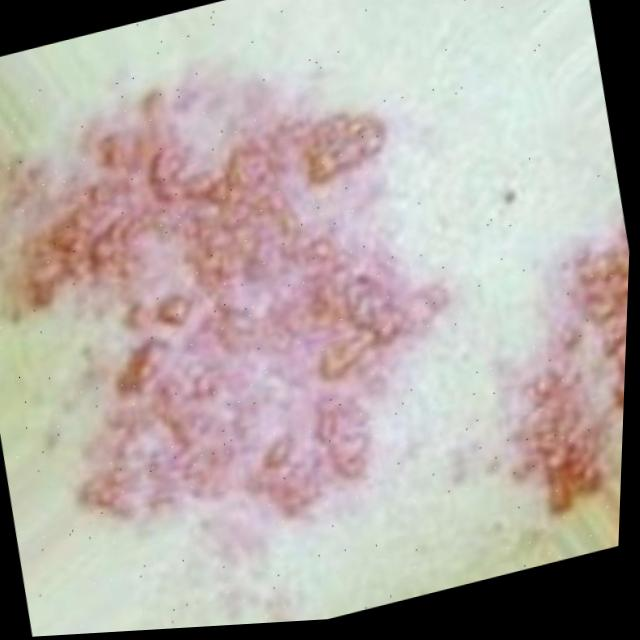Shingles: (0, 36, 489, 587), (458, 234, 630, 543)
